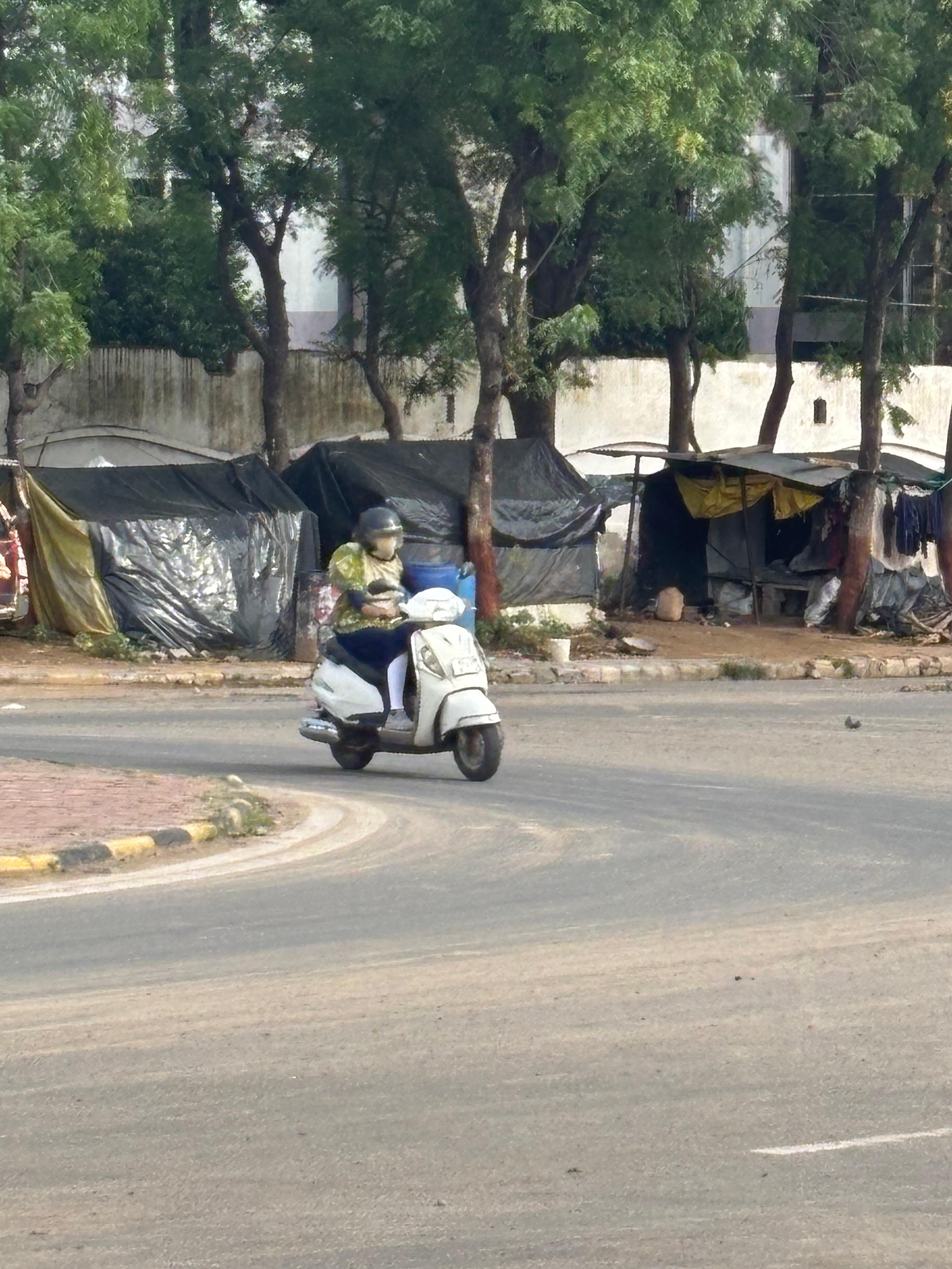BikeWithRider: (282, 493, 530, 804)
Helmet: (340, 490, 414, 567)
